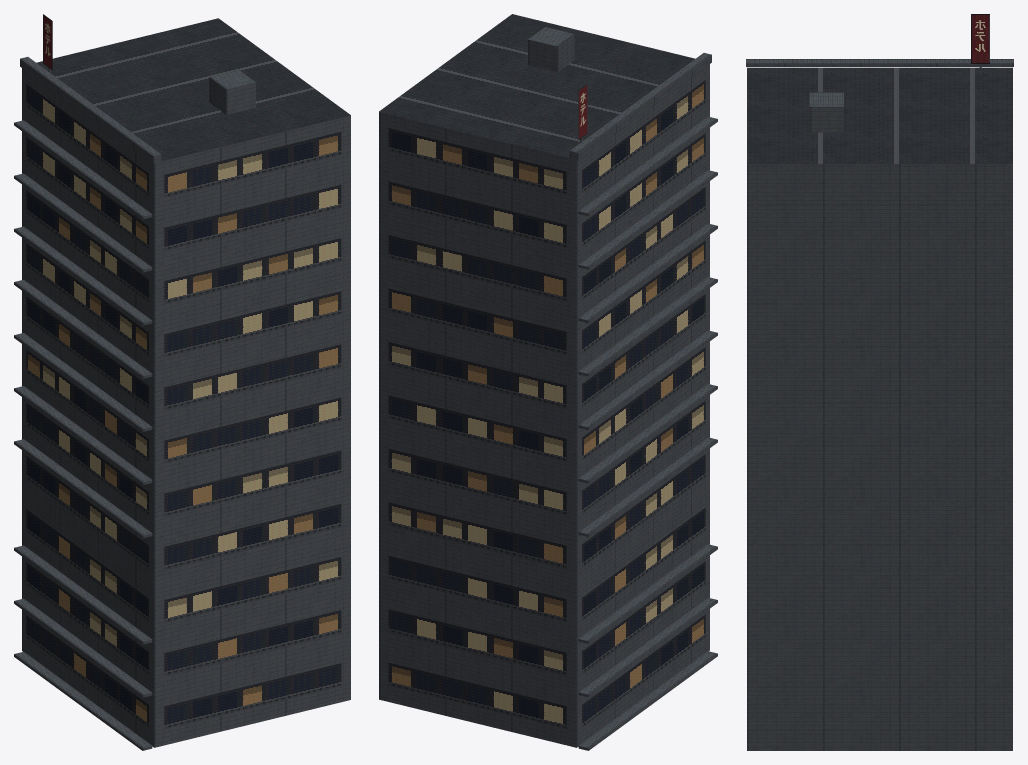
File: mtn_block_tier_c.glb
The picture shows the model from 3 angles, left to right: view 1: azimuth 30°, elevation 25°; view 2: azimuth 150°, elevation 25°; view 3: azimuth 270°, elevation 25°; orthographic projection.
Parts seen in each view (by area): view 1: mtn_block_tier_c; view 2: mtn_block_tier_c; view 3: mtn_block_tier_c.
Boxes of the visible parts, x1,y1,x2,y2 form: mtn_block_tier_c: [14, 14, 350, 750]; mtn_block_tier_c: [379, 14, 717, 750]; mtn_block_tier_c: [746, 14, 1013, 750].
Size of the model in its own units: 12.6 by 37.62 by 14.1.
4 materials, 4 textured.
